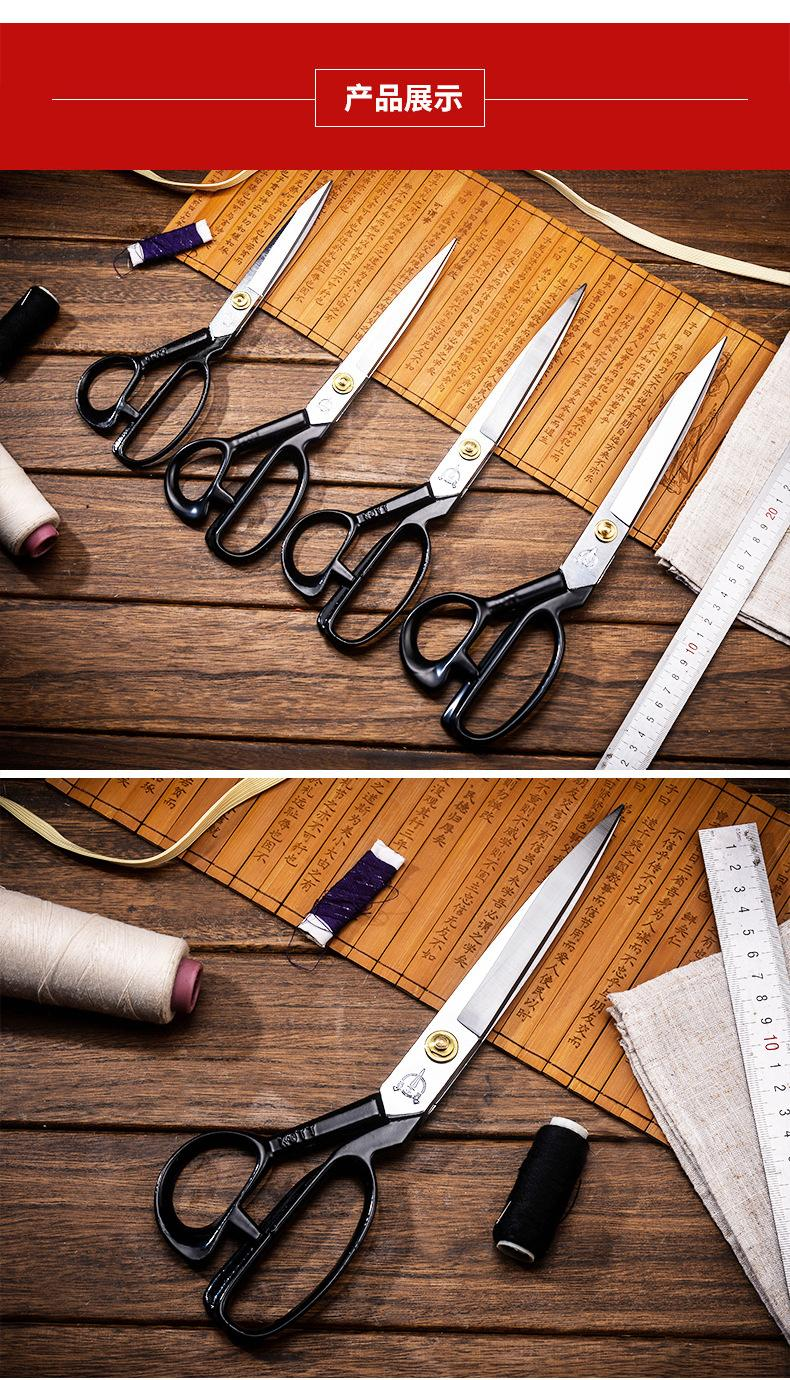scissor: (96, 155, 737, 723), (142, 824, 754, 1367)
